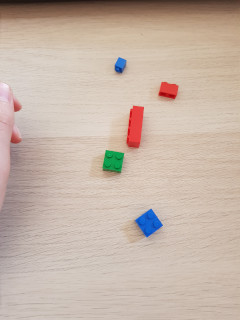1x1 blue: (115, 56, 127, 75)
1x2 red: (158, 81, 179, 100)
2x2 blue: (134, 209, 163, 239)
2x2 green: (101, 148, 124, 173)
2x4 red: (126, 105, 144, 149)
